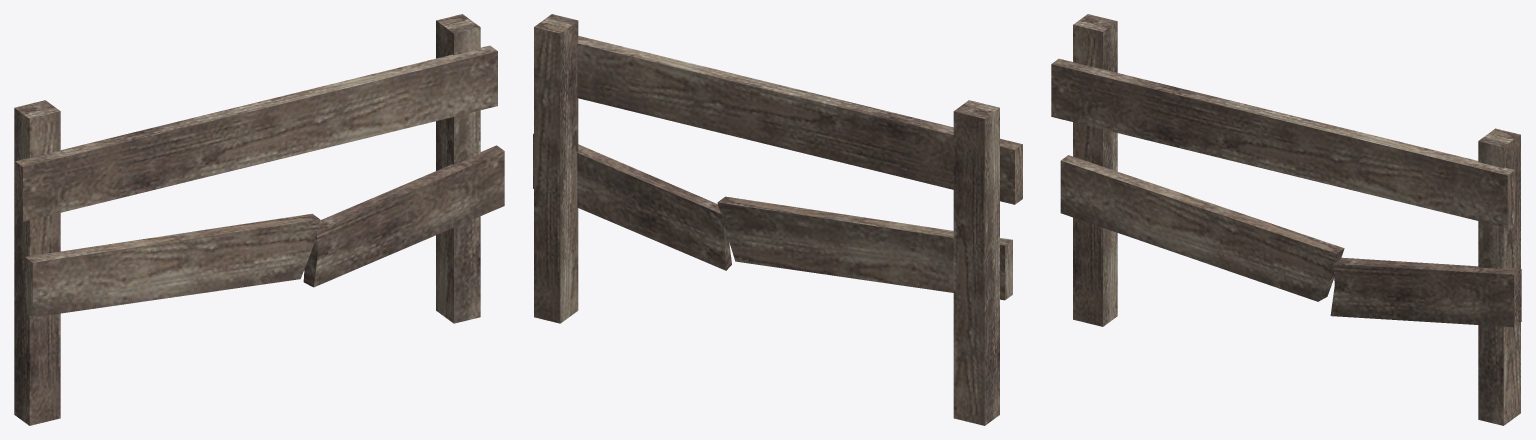
The model's file is Prop_Handrail02.glb.
3 renders of one model, left to right at view 1: azimuth 30°, elevation 25°; view 2: azimuth 150°, elevation 25°; view 3: azimuth 330°, elevation 25°, orthographic. The views are drawn at different scales.
Visible parts, largest first — view 1: xiutz_handrail02; view 2: xiutz_handrail02; view 3: xiutz_handrail02.
Part boxes in pixels (x1,y1,x2,y2): xiutz_handrail02: [14, 14, 504, 425]; xiutz_handrail02: [533, 14, 1022, 425]; xiutz_handrail02: [1051, 14, 1521, 425].
Size of the model in its own units: 2.71 by 1.65 by 0.2407.
Materials: 1 (1 with a texture image).
